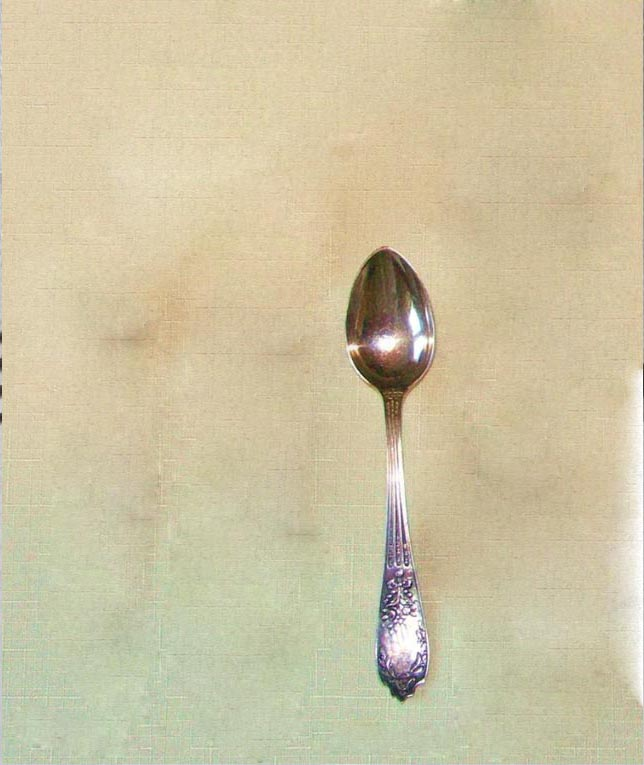Lyzka: (346, 244, 442, 392)
